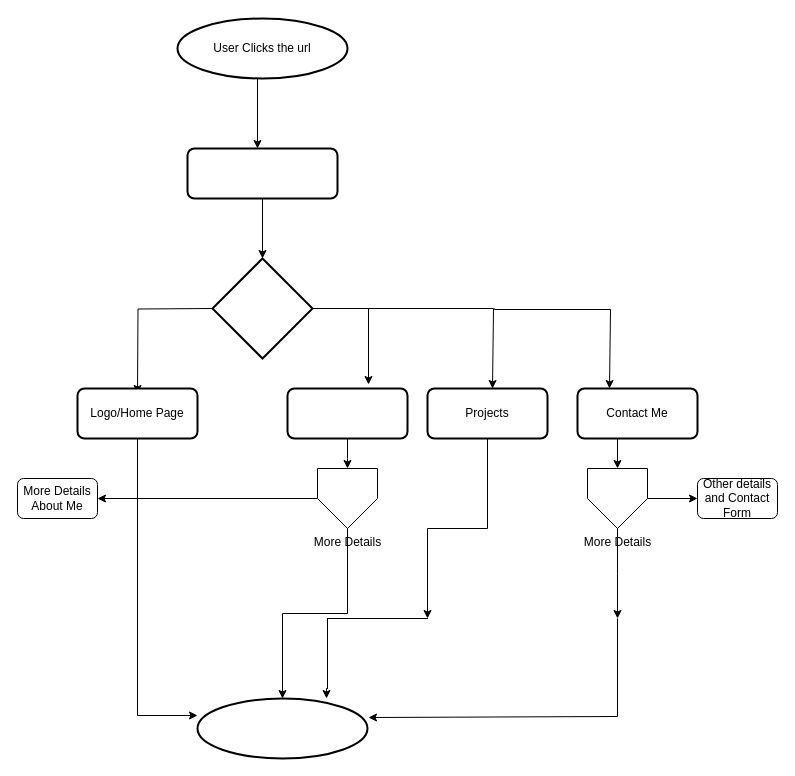
This 795x776 diagram has some shape labels left out. Here are the shapes that lost their labels. From the top down, the box of each, then its label:
(186, 147, 338, 199): Navigation Menus
(211, 257, 313, 359): User Button Clicks
(286, 387, 408, 439): About Me
(196, 697, 368, 759): Web link closes
